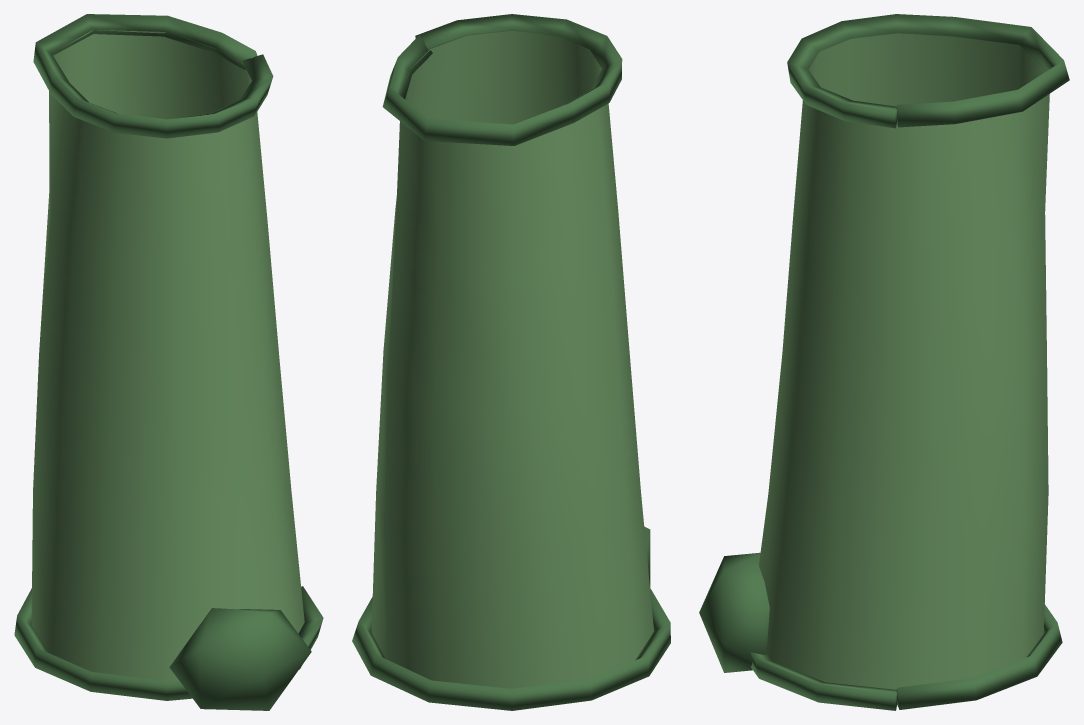
The model's file is tungsten_armor_greave.R.glb.
The picture shows the model from 3 angles, left to right: view 1: azimuth 30°, elevation 25°; view 2: azimuth 150°, elevation 25°; view 3: azimuth 270°, elevation 25°; orthographic projection. The views are drawn at different scales.
Parts seen in each view (by area): view 1: tungsten_armor_greave.R; view 2: tungsten_armor_greave.R; view 3: tungsten_armor_greave.R.
Part boxes in pixels (x1=…): tungsten_armor_greave.R: x1=14, y1=14, x2=323, y2=710; tungsten_armor_greave.R: x1=352, y1=14, x2=670, y2=710; tungsten_armor_greave.R: x1=699, y1=14, x2=1069, y2=710.
Bounding box in the file's own units: 0.1941 × 0.4045 × 0.2252.
